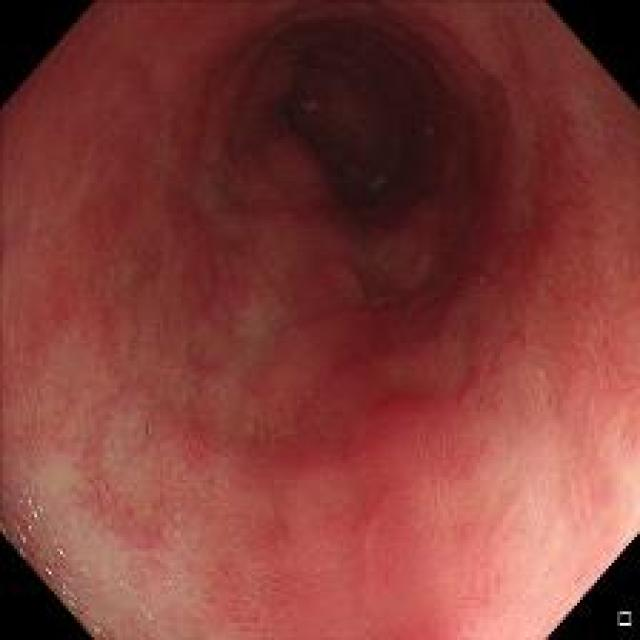color misalignment: (8, 489, 114, 634), (114, 579, 156, 621), (299, 95, 318, 112)
contrast: (269, 29, 475, 250)
